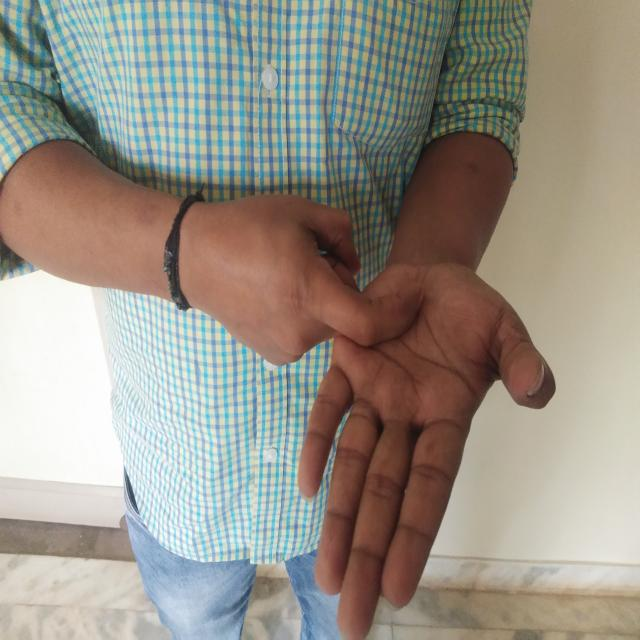R: (228, 171, 566, 640)
